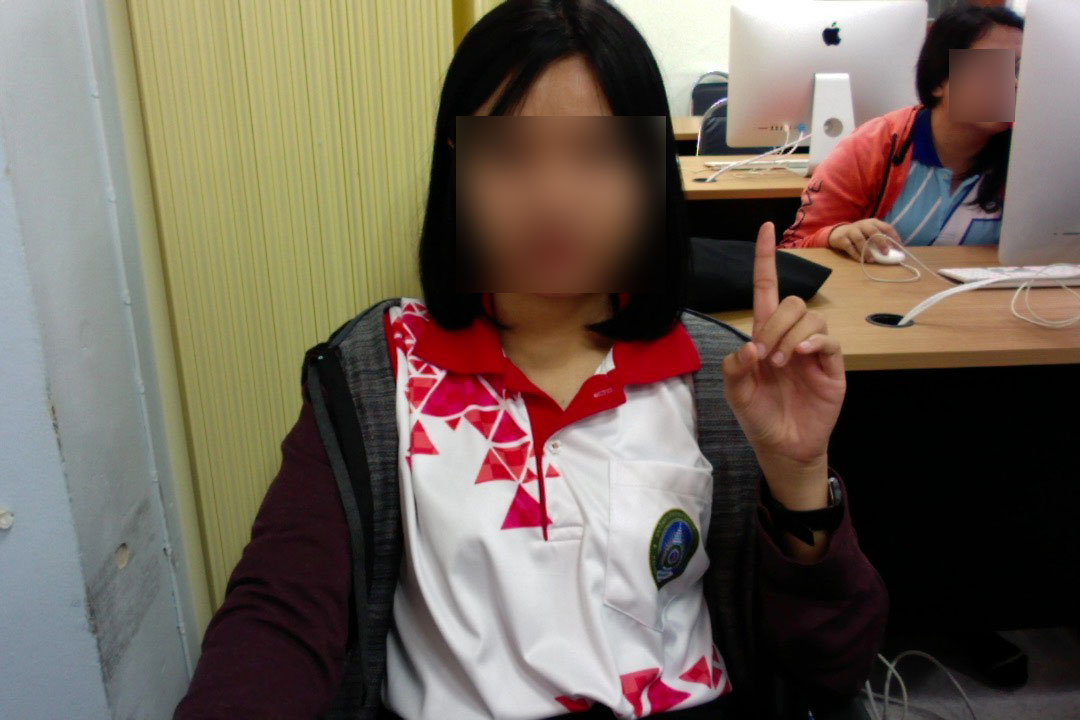dor: (718, 214, 856, 484)
